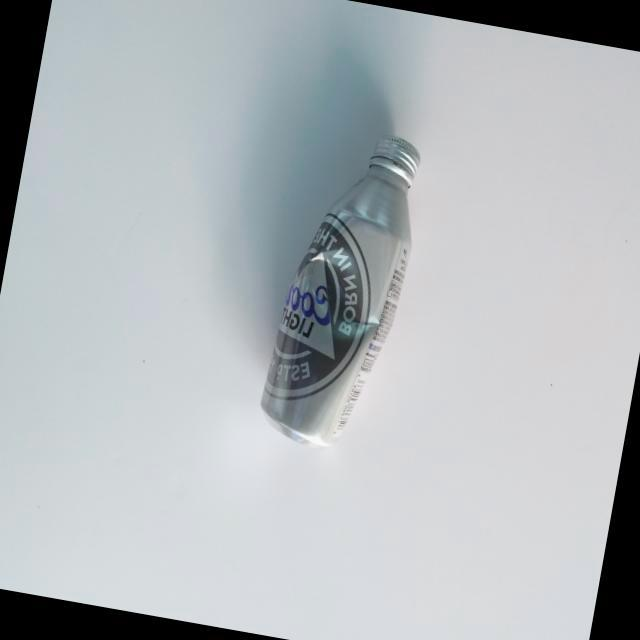metal: (238, 113, 438, 465)
